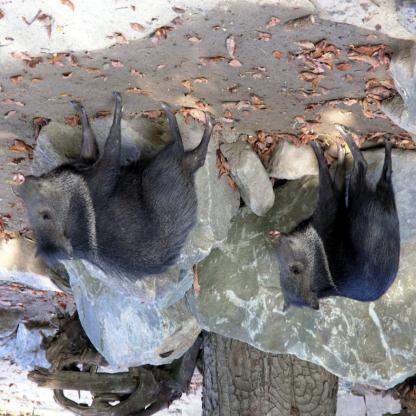boar: (11, 91, 217, 287), (268, 124, 402, 316)
